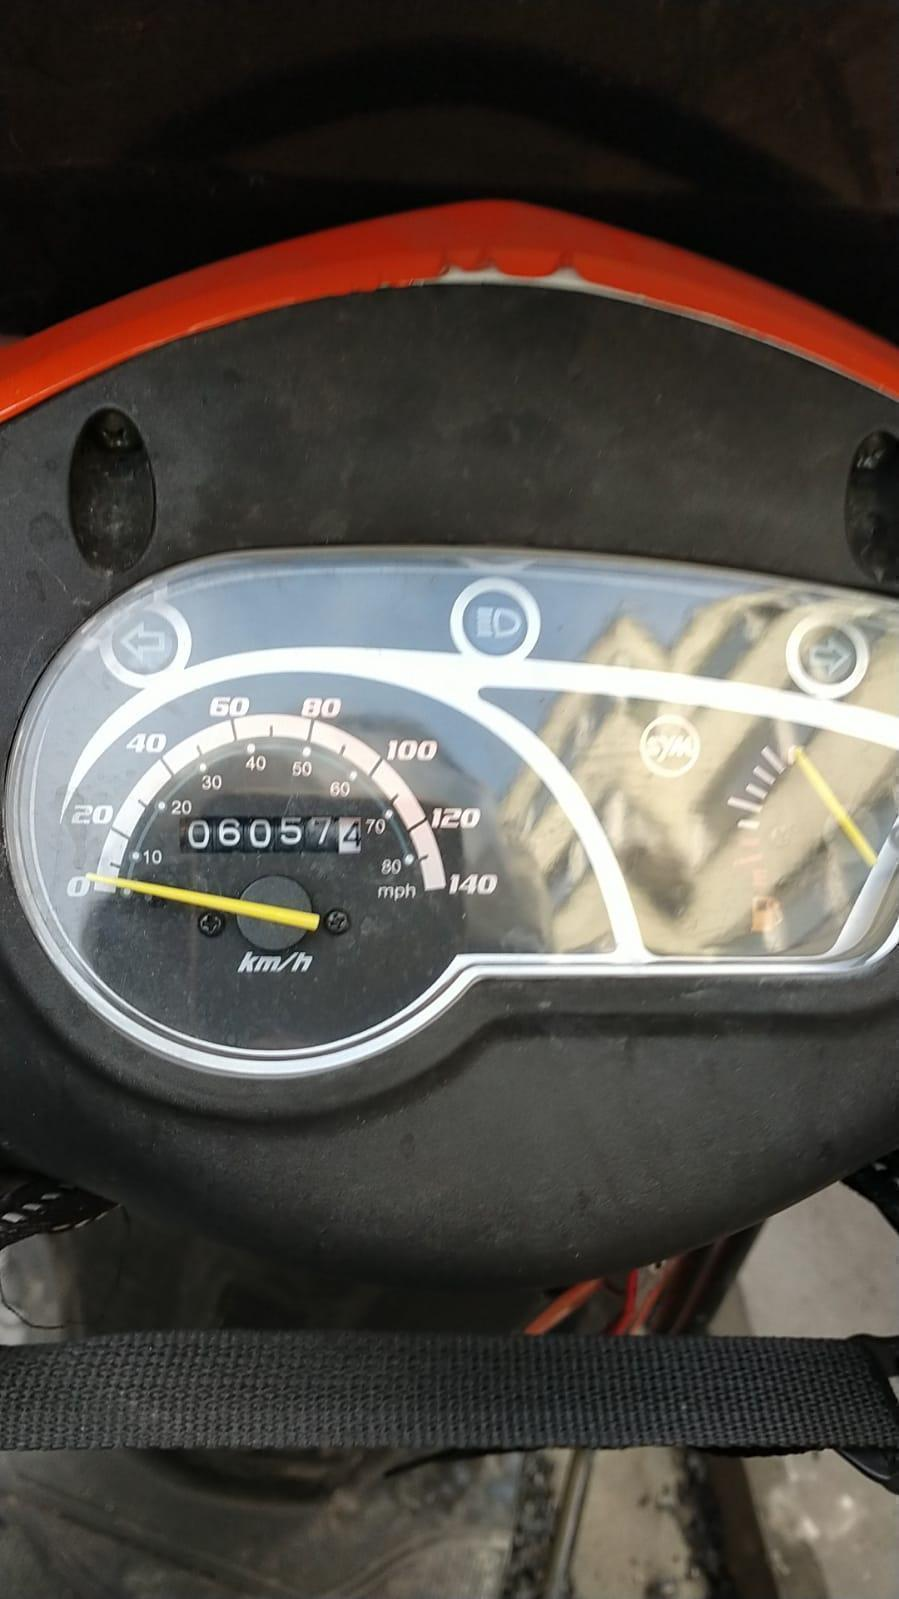0: (186, 817, 209, 849), (248, 818, 269, 849)
4: (339, 819, 363, 852)
5: (276, 816, 302, 849)
6: (216, 817, 241, 851)
7: (311, 813, 333, 849)
odometer: (177, 814, 367, 856)
